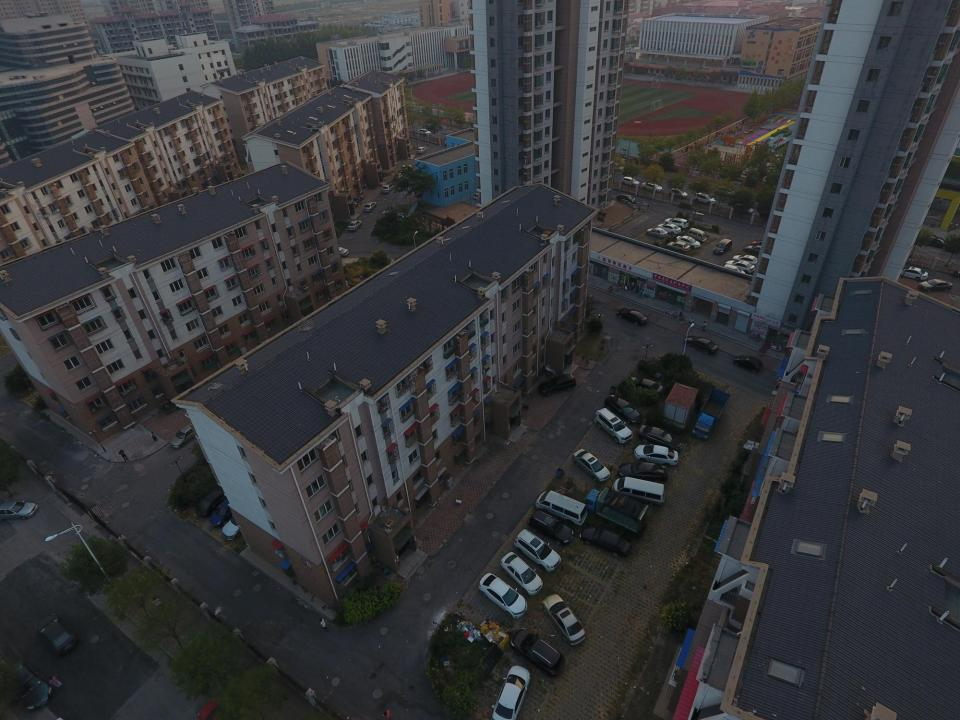car: (509, 627, 565, 679), (540, 592, 585, 646), (489, 666, 533, 720), (7, 660, 54, 709), (479, 572, 528, 618), (512, 529, 562, 571), (498, 552, 544, 595), (35, 614, 79, 656), (580, 524, 632, 558), (527, 511, 574, 545), (593, 408, 633, 444), (573, 447, 612, 482), (604, 393, 642, 424), (639, 424, 684, 450), (222, 505, 255, 540), (618, 461, 668, 484), (196, 486, 228, 517), (635, 444, 679, 466), (210, 494, 239, 526), (538, 373, 576, 395), (627, 375, 664, 397), (0, 500, 38, 520), (169, 423, 196, 449), (685, 335, 719, 354), (734, 353, 763, 374), (616, 307, 648, 326), (919, 278, 953, 293), (896, 265, 929, 280), (726, 260, 755, 274), (732, 254, 758, 268), (724, 264, 745, 279), (744, 245, 769, 257), (689, 179, 712, 192), (677, 236, 700, 249), (714, 186, 738, 198), (752, 239, 778, 250), (645, 227, 668, 238), (657, 223, 680, 234), (665, 217, 688, 228), (668, 241, 691, 252), (642, 182, 663, 194), (695, 192, 716, 204), (616, 193, 638, 203), (328, 246, 349, 256), (670, 187, 688, 198), (622, 176, 640, 186), (363, 201, 377, 213), (608, 162, 626, 171), (348, 219, 361, 231), (382, 184, 394, 194), (400, 164, 411, 172), (394, 172, 404, 180), (416, 146, 426, 154)
truck: (584, 488, 648, 534), (692, 388, 729, 439), (382, 209, 406, 224)
van: (534, 490, 587, 524), (614, 477, 666, 505), (714, 238, 732, 256), (687, 227, 707, 241)
